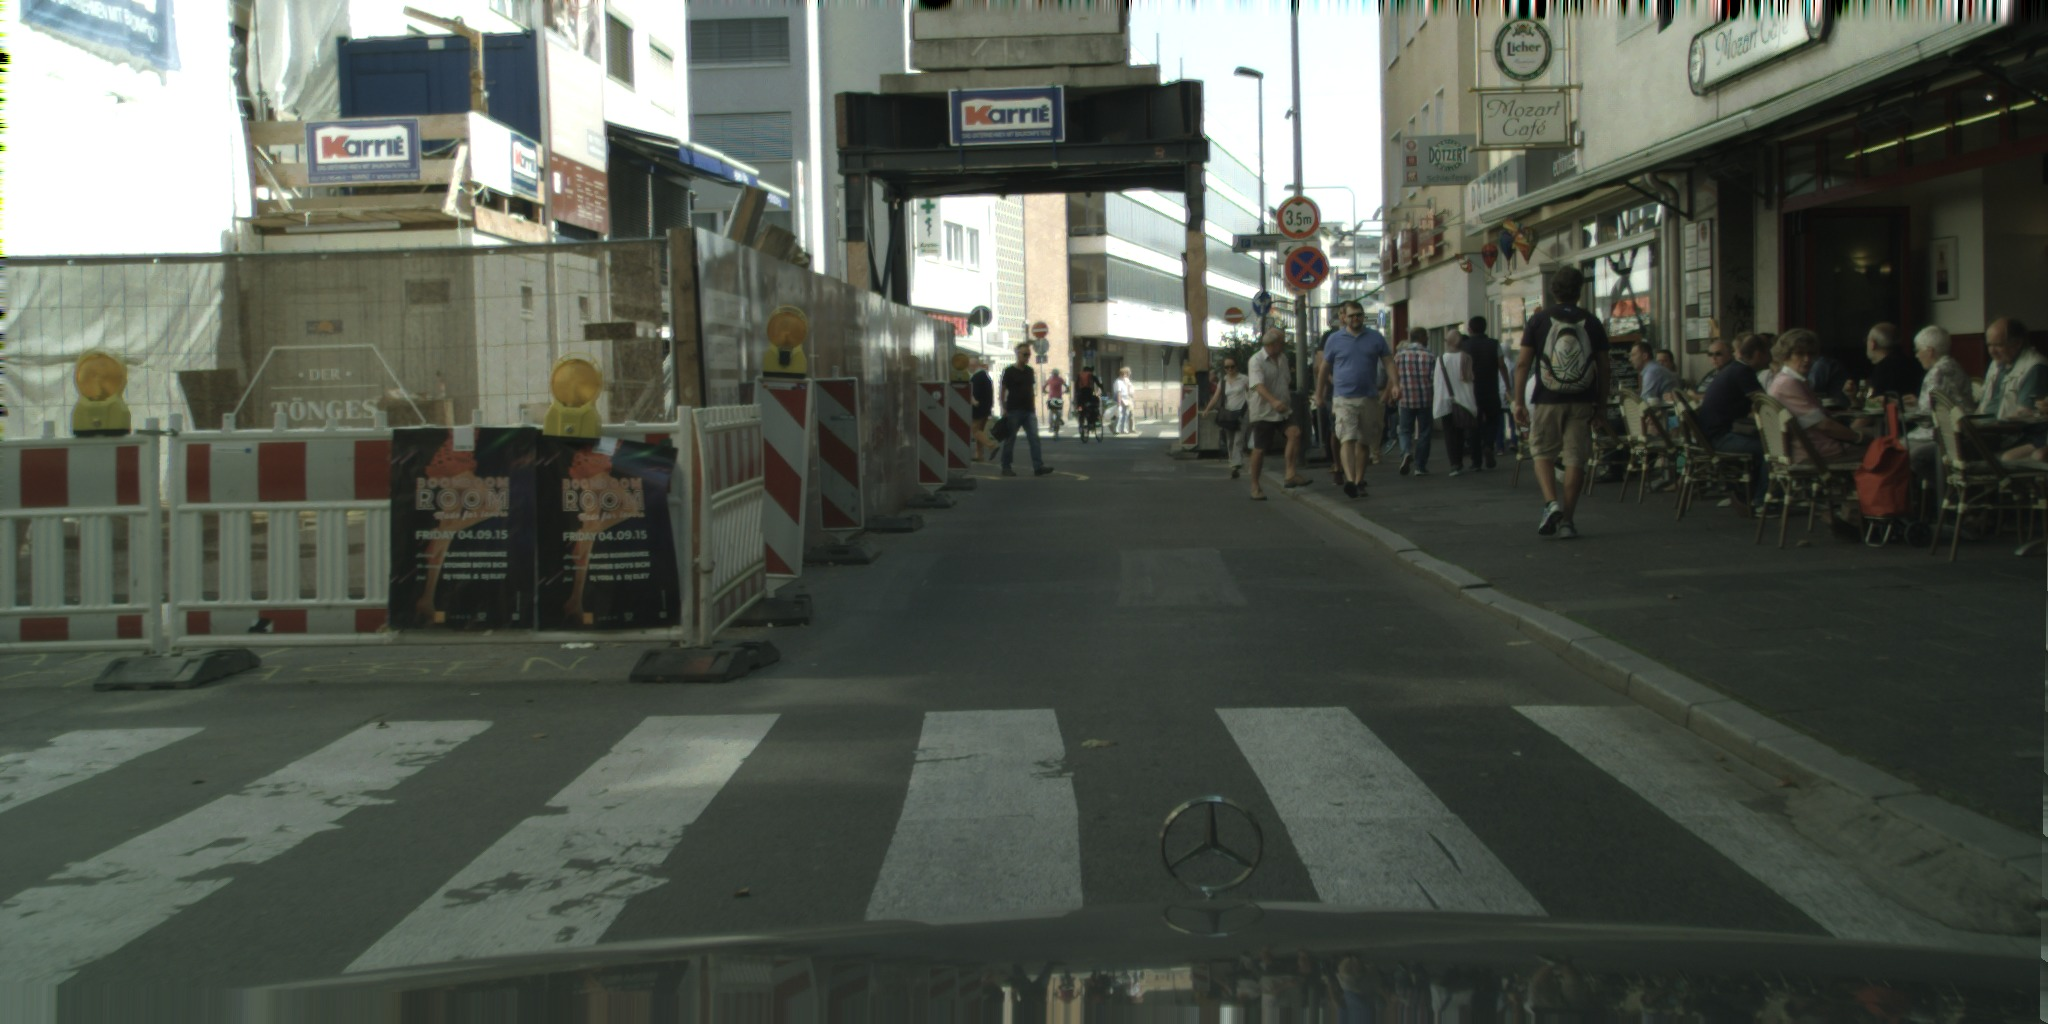bicycle: (1076, 402, 1104, 442), (1046, 397, 1064, 441)
person: (1513, 266, 1610, 538), (1316, 301, 1401, 498), (1765, 326, 1882, 463), (1699, 333, 1776, 516), (1247, 328, 1313, 500), (1451, 316, 1514, 471), (1314, 301, 1360, 485), (1391, 327, 1447, 476), (990, 342, 1053, 476), (1973, 318, 2047, 424), (1202, 356, 1263, 477), (1843, 322, 1927, 410), (1433, 329, 1478, 476), (1520, 364, 1576, 483), (1899, 325, 1973, 413), (1360, 346, 1399, 464), (1484, 342, 1522, 456), (961, 357, 999, 461), (1687, 340, 1740, 410), (1629, 342, 1683, 403), (1742, 332, 1789, 401), (1305, 355, 1339, 450), (1097, 367, 1132, 435), (1203, 367, 1232, 444), (1796, 348, 1831, 392), (1732, 331, 1758, 387), (1122, 366, 1141, 434), (1651, 351, 1680, 389), (1397, 339, 1415, 363)
rider: (1074, 365, 1108, 430), (1041, 368, 1070, 431)
